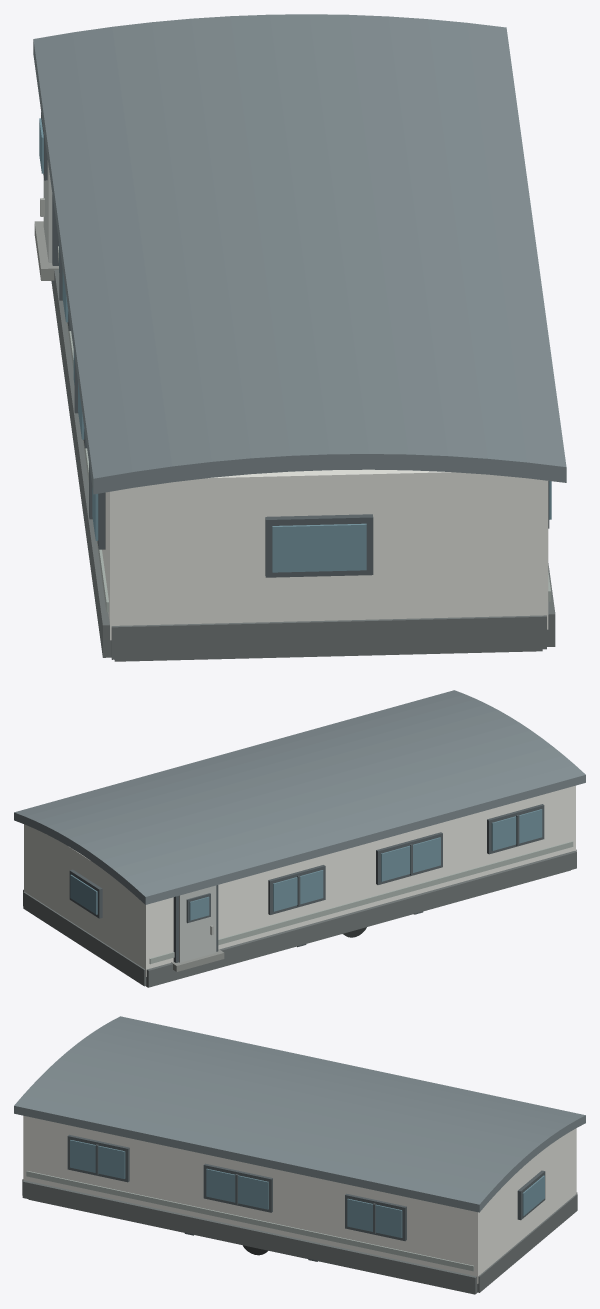
3 views of the same model, one above another, from view 1: azimuth 30°, elevation 25°; view 2: azimuth 150°, elevation 25°; view 3: azimuth 270°, elevation 25° (orthographic). The views are drawn at different scales.
Visible parts, largest first — view 1: shallow_crowned_roof, main_caravan_body, lower_end_skirt_negative, rear_end_window_glass, lower_side_skirt_positive, rear_end_window_frame, underframe_main; view 2: shallow_crowned_roof, main_caravan_body, lower_side_skirt_positive, side_stripe_positive, lower_end_skirt_positive, entrance_door_panel, positive_side_window_2_glass, positive_side_window_1_glass, positive_side_window_3_glass, positive_side_window_2_frame, positive_side_window_1_frame, positive_side_window_3_frame (+6 smaller); view 3: shallow_crowned_roof, main_caravan_body, lower_side_skirt_negative, side_stripe_negative, lower_end_skirt_positive, negative_side_window_2_glass, negative_side_window_3_glass, negative_side_window_1_glass, negative_side_window_2_frame, negative_side_window_1_frame, negative_side_window_3_frame, front_end_window_glass (+2 smaller).
Part boxes in pixels (x1,y1,x2,y2): shallow_crowned_roof: [33, 14, 566, 494]; main_caravan_body: [102, 469, 548, 640]; lower_end_skirt_negative: [111, 615, 546, 659]; rear_end_window_glass: [272, 523, 366, 572]; lower_side_skirt_positive: [51, 269, 111, 657]; rear_end_window_frame: [265, 514, 373, 577]; underframe_main: [114, 649, 542, 661]; shallow_crowned_roof: [14, 690, 585, 904]; main_caravan_body: [24, 785, 575, 976]; lower_side_skirt_positive: [146, 851, 576, 986]; side_stripe_positive: [149, 841, 573, 964]; lower_end_skirt_positive: [23, 891, 146, 986]; entrance_door_panel: [179, 885, 216, 962]; positive_side_window_2_glass: [381, 837, 440, 881]; positive_side_window_1_glass: [491, 809, 542, 850]; positive_side_window_3_glass: [273, 870, 323, 911]; positive_side_window_2_frame: [376, 832, 442, 884]; positive_side_window_1_frame: [487, 804, 544, 854]; positive_side_window_3_frame: [268, 865, 325, 914]; shallow_crowned_roof: [14, 1016, 585, 1212]; main_caravan_body: [23, 1115, 576, 1283]; lower_side_skirt_negative: [22, 1180, 477, 1293]; side_stripe_negative: [26, 1171, 473, 1271]; lower_end_skirt_positive: [477, 1194, 577, 1292]; negative_side_window_2_glass: [206, 1168, 268, 1209]; negative_side_window_3_glass: [347, 1198, 402, 1237]; negative_side_window_1_glass: [70, 1140, 125, 1178]; negative_side_window_2_frame: [203, 1163, 272, 1212]; negative_side_window_1_frame: [67, 1134, 129, 1182]; negative_side_window_3_frame: [345, 1193, 406, 1241]; front_end_window_glass: [522, 1175, 544, 1216].
Bounding box in the file's own units: 8.69 × 2.5 × 11.15.
